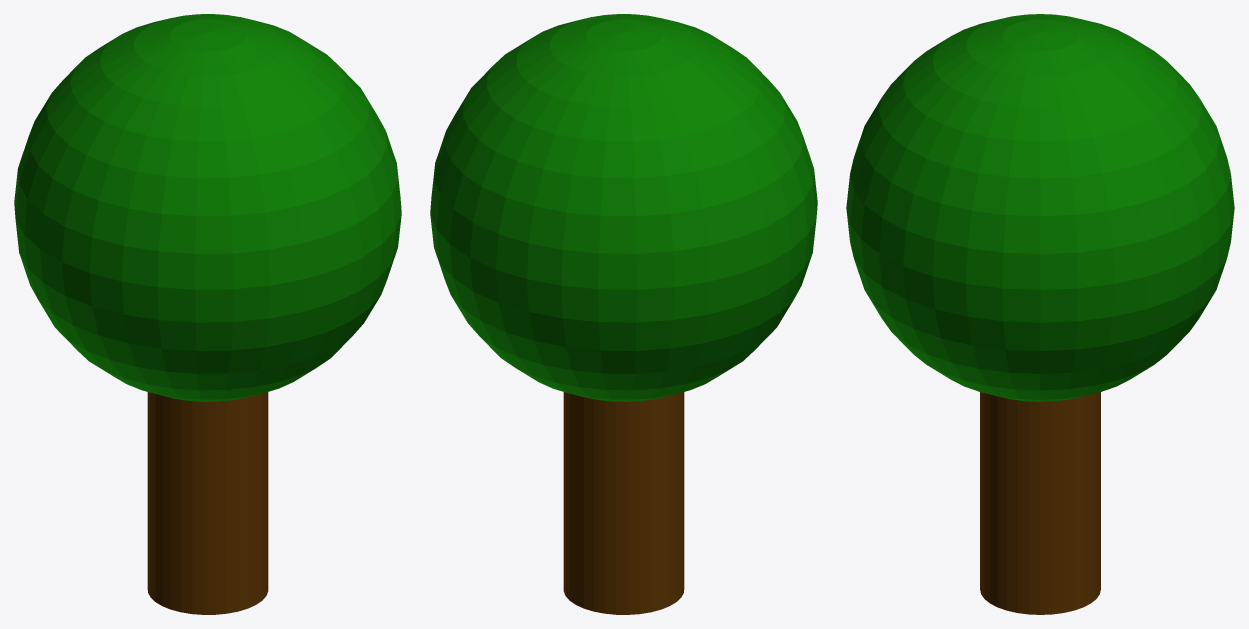
File: Tree1.glb
3 views of the same model, side by side, from view 1: azimuth 30°, elevation 25°; view 2: azimuth 150°, elevation 25°; view 3: azimuth 270°, elevation 25° (orthographic).
Parts seen in each view (by area): view 1: TreeLeaves-col, TreeTrunk-col; view 2: TreeLeaves-col, TreeTrunk-col; view 3: TreeLeaves-col, TreeTrunk-col.
Part boxes in pixels (x1=…): TreeLeaves-col: x1=14, y1=14, x2=401, y2=401; TreeTrunk-col: x1=147, y1=392, x2=268, y2=614; TreeLeaves-col: x1=430, y1=14, x2=817, y2=401; TreeTrunk-col: x1=563, y1=392, x2=684, y2=614; TreeLeaves-col: x1=846, y1=14, x2=1234, y2=401; TreeTrunk-col: x1=980, y1=392, x2=1100, y2=614.
Bounding box in the file's own units: 6.42 × 10.17 × 6.42.
